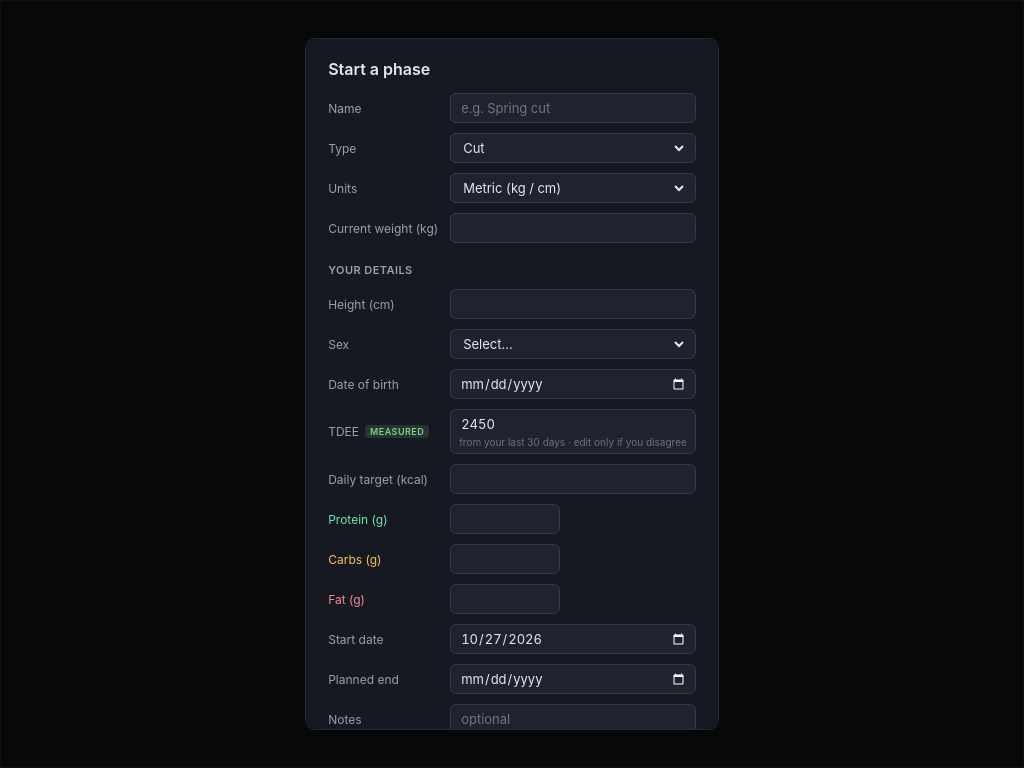
Test: PhaseFormModal profile fields (create) › switching the unit toggle to imperial shows ft/in height inputs
This screenshot has width=1024, height=768.
Select "Imperial (lb / ft-in)" in the dropdown with test id "unit-toggle" at (573, 188), box [459, 179, 687, 197]
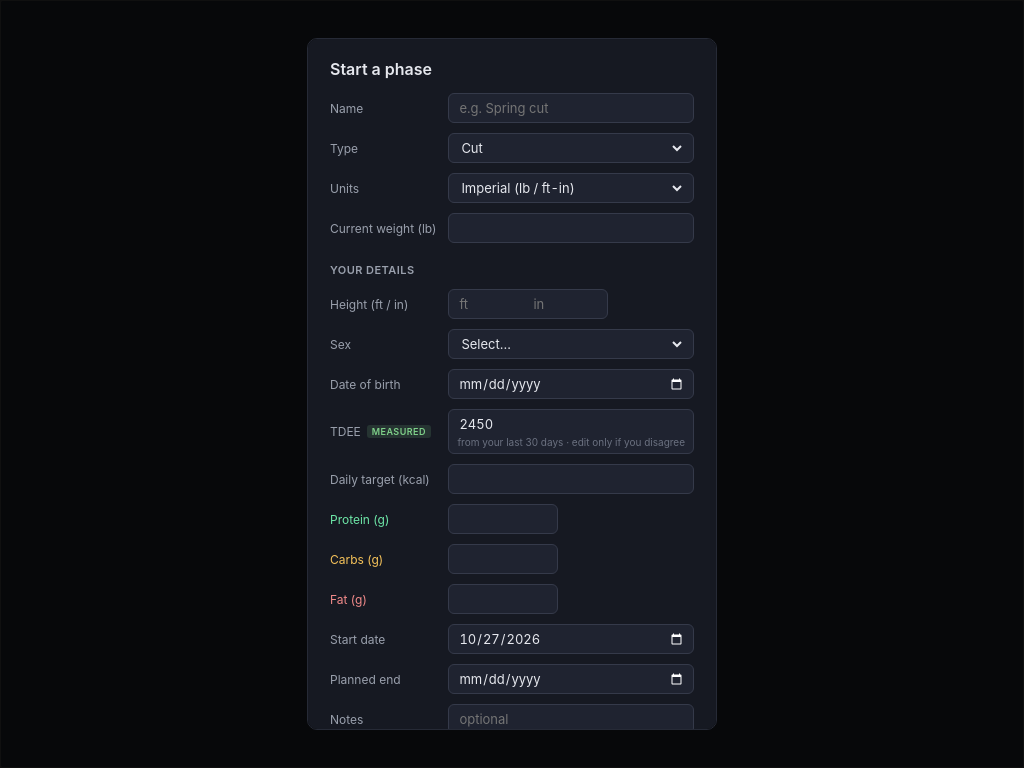
Now the number field with test id "profile-height-ft" is shown, box [457, 295, 525, 313]
Now the number field with test id "profile-height-in" is shown, box [531, 295, 599, 313]
